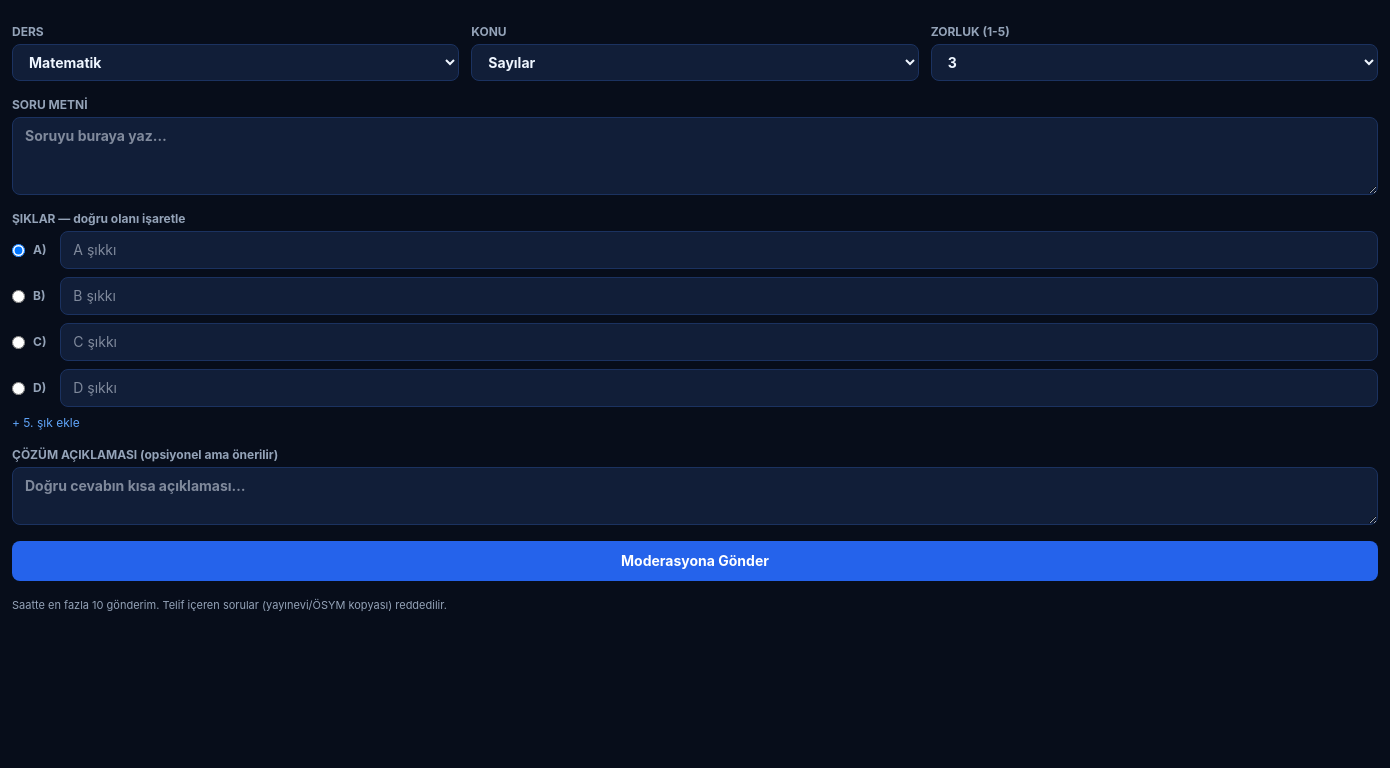
Scenario: SubmitQuestionClient › API hatası: mesaj gösterilir, form kaybolmaz
Type "Bir sayının %20 fazlası 60 ise bu sayı kaçtır?" into the text box with placeholder "Soruyu buraya yaz…".
click(695, 156); type("Bir sayının %20 fazlası 60 ise bu sayı kaçtır?")  # box [12,117,1378,195]
Type "40" into the field with placeholder "A şıkkı".
click(719, 250); type("40")  # box [60,231,1378,269]
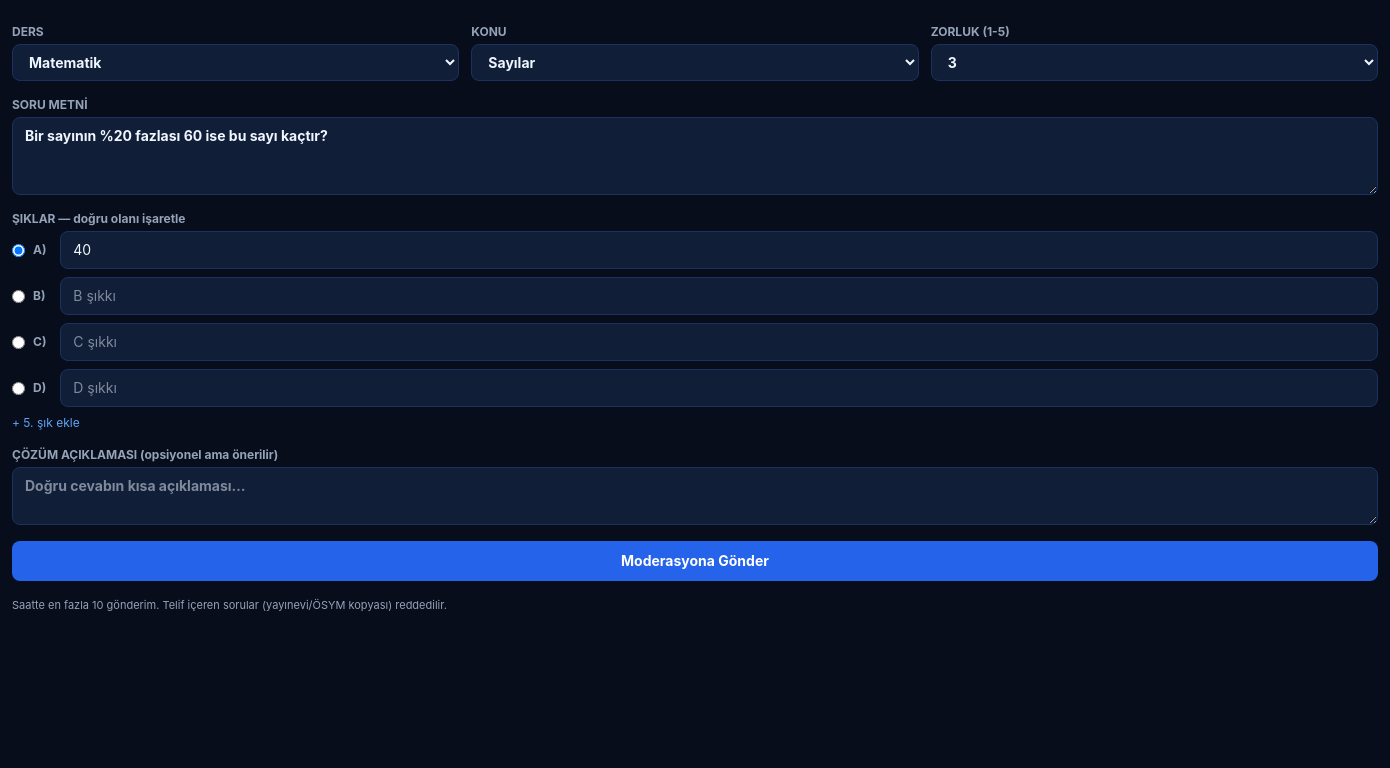
Type "50" into the field with placeholder "B şıkkı".
click(719, 296); type("50")  # box [60,277,1378,315]
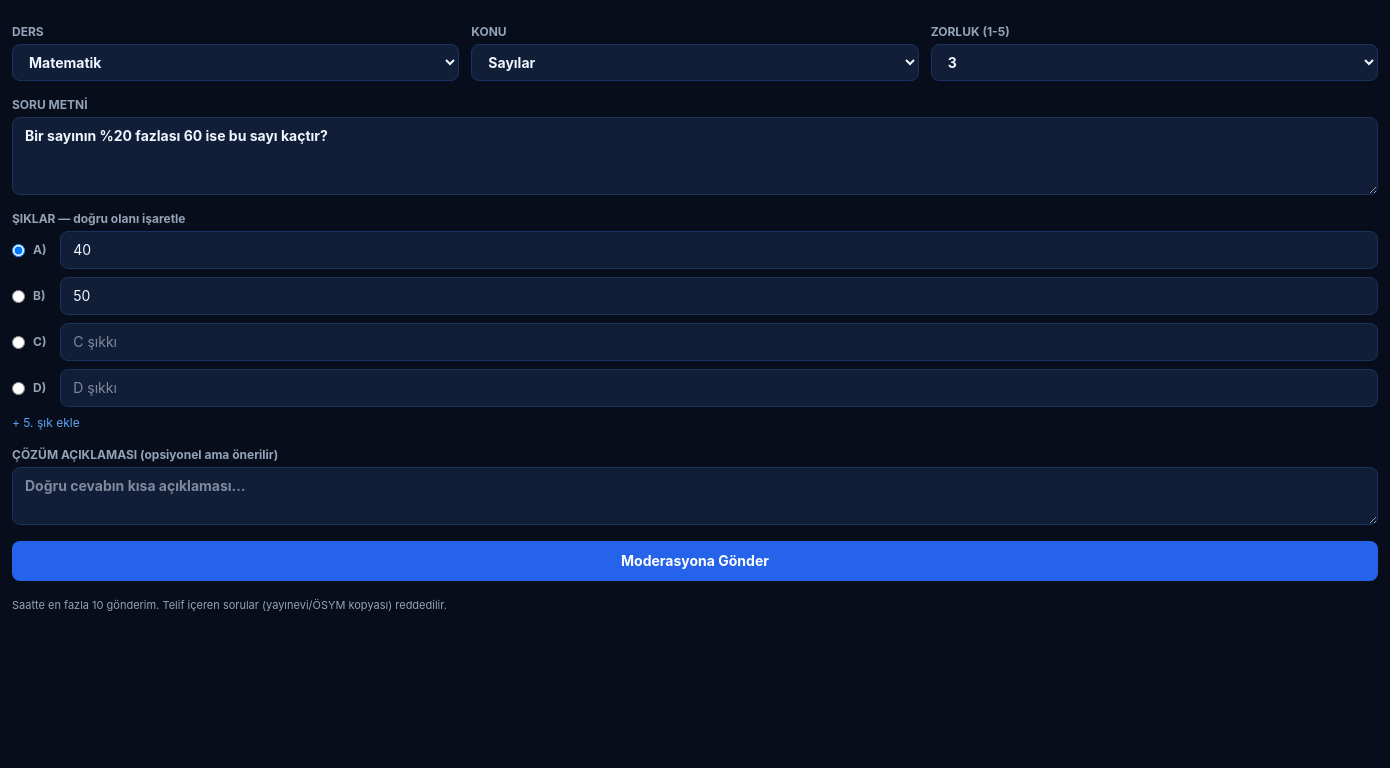
Type "48" into the field with placeholder "C şıkkı".
click(719, 342); type("48")  # box [60,323,1378,361]
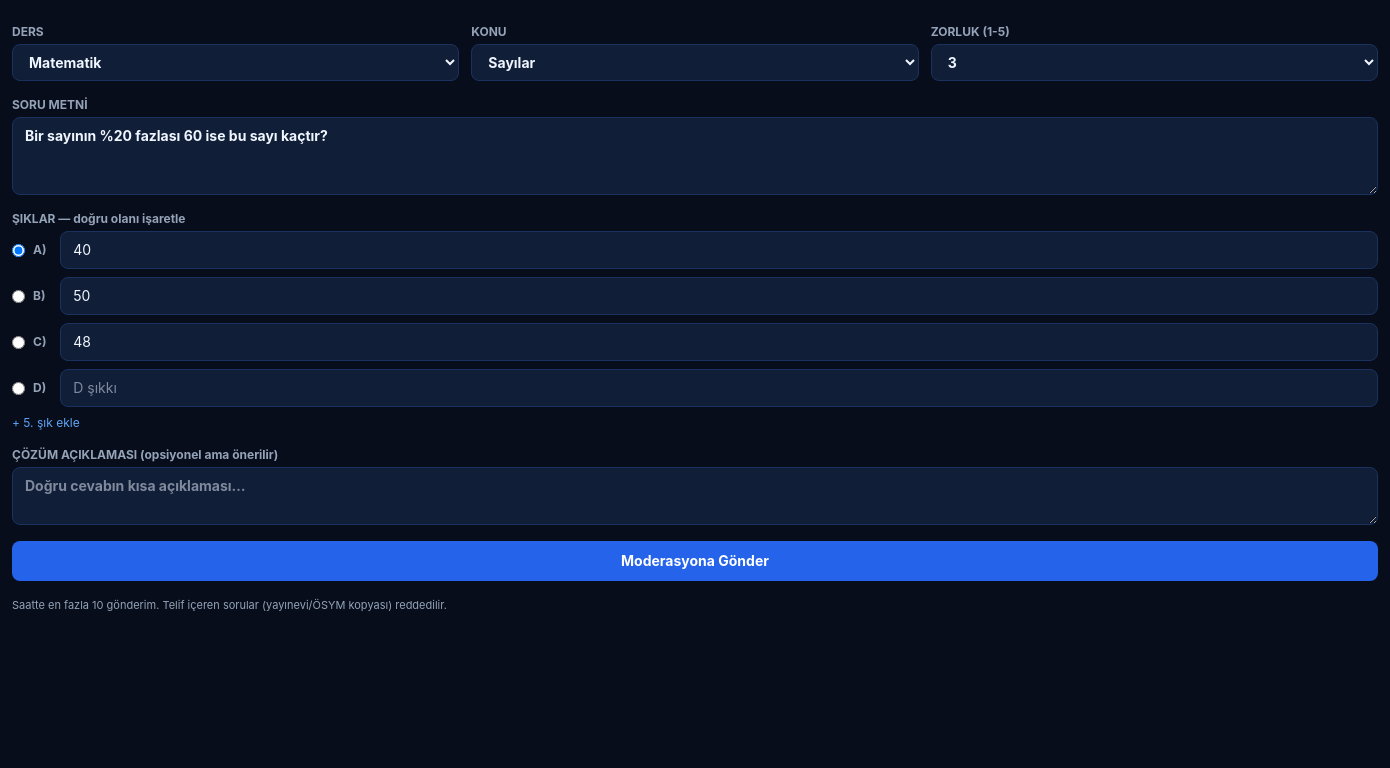
Type "52" into the field with placeholder "D şıkkı".
click(719, 388); type("52")  # box [60,369,1378,407]
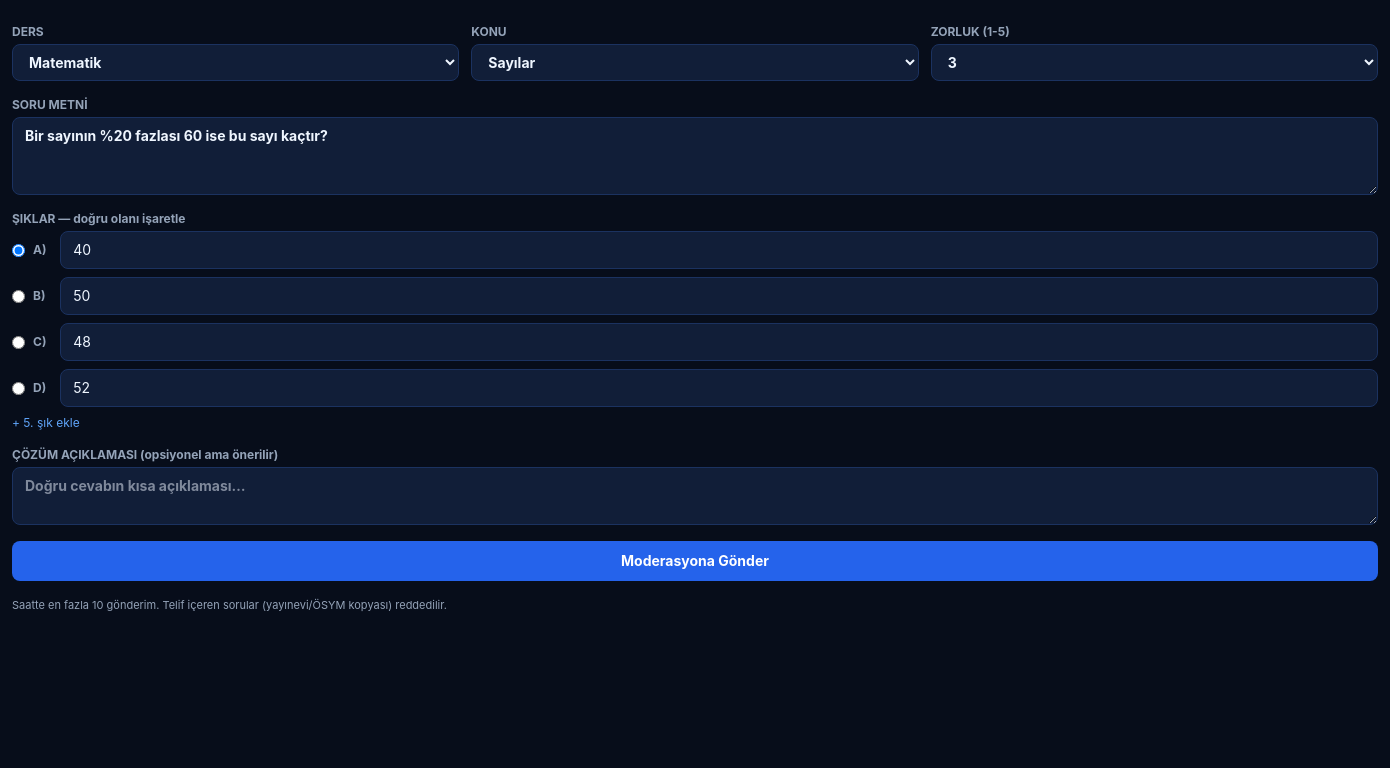
Click the radio button named "Doğru cevap B".
click(18, 296)  # box [12,290,25,302]
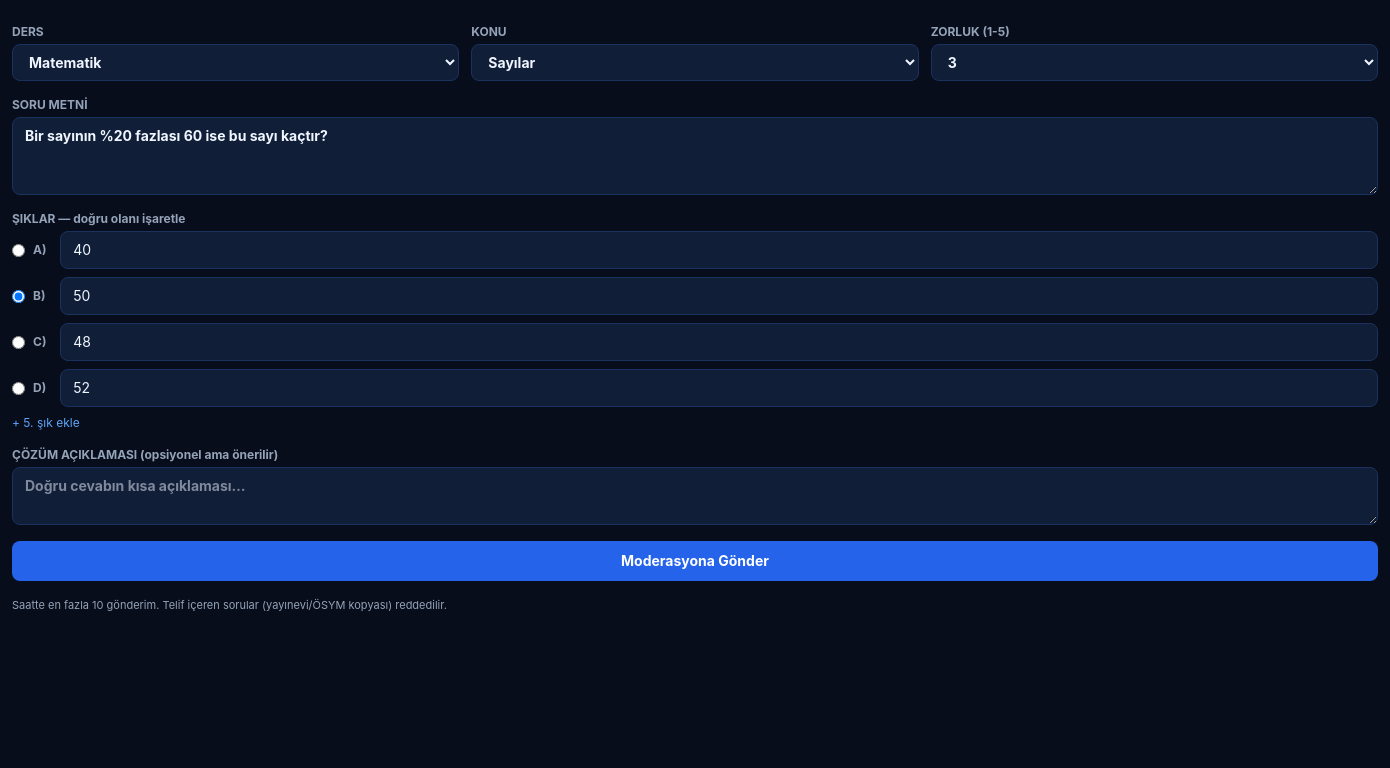
Click the button "Moderasyona Gönder".
click(695, 561)  # box [12,541,1378,581]
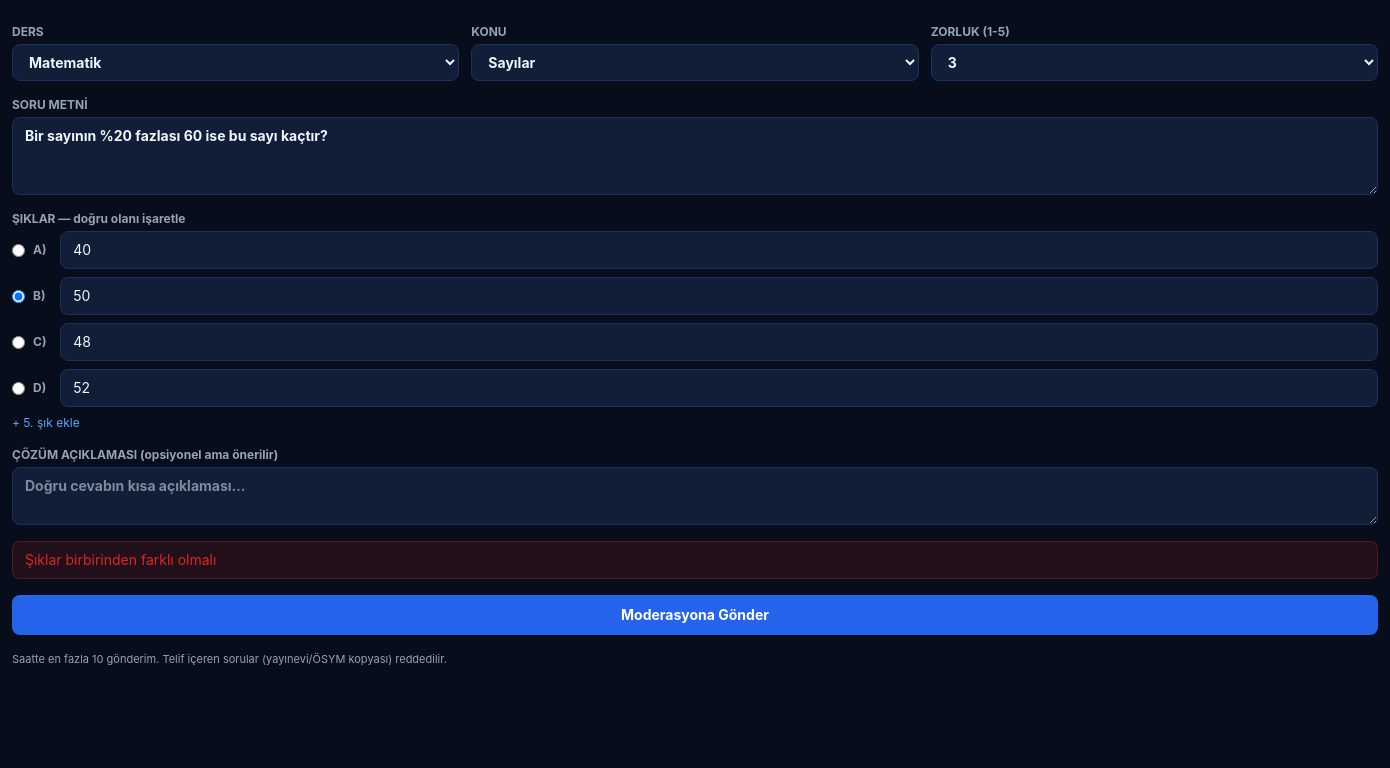
Check: the text "Şıklar birbirinden farklı olmalı" is shown, box [12,541,1378,579]
